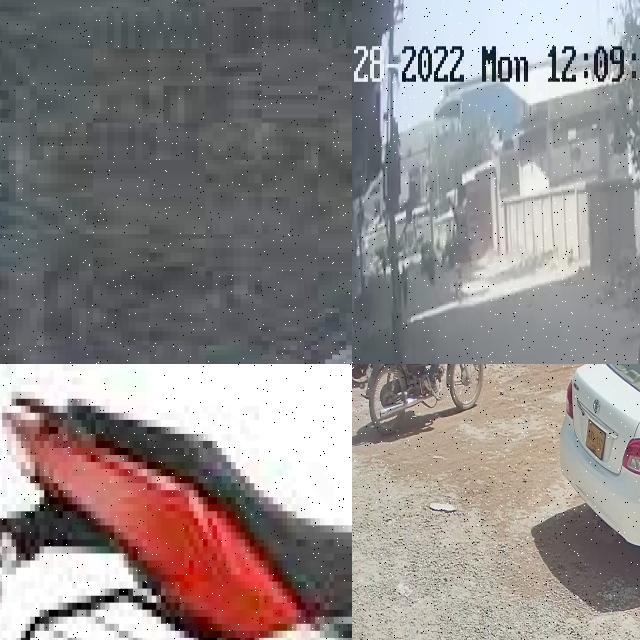bike: (0, 364, 352, 640), (362, 364, 482, 433)
car: (0, 266, 352, 364), (559, 364, 640, 586)
